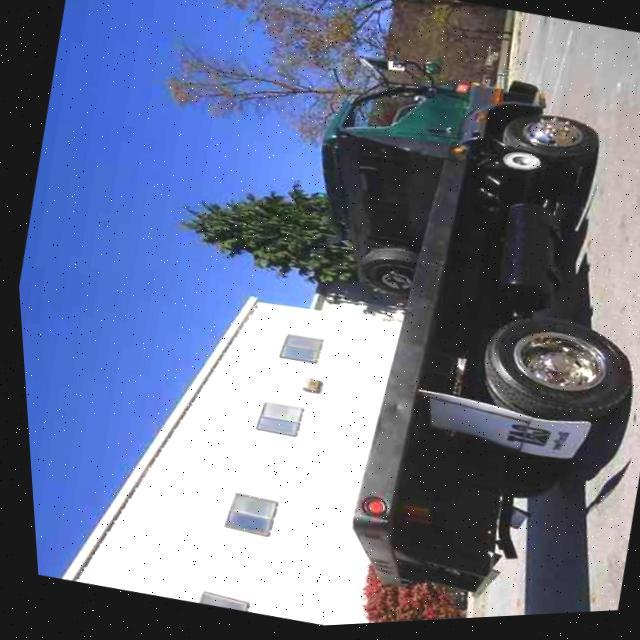truck: (214, 37, 640, 631)
